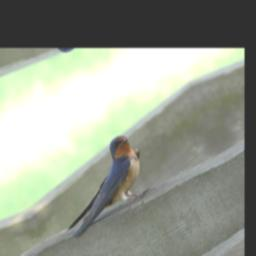Swallow: (27, 127, 162, 250)
